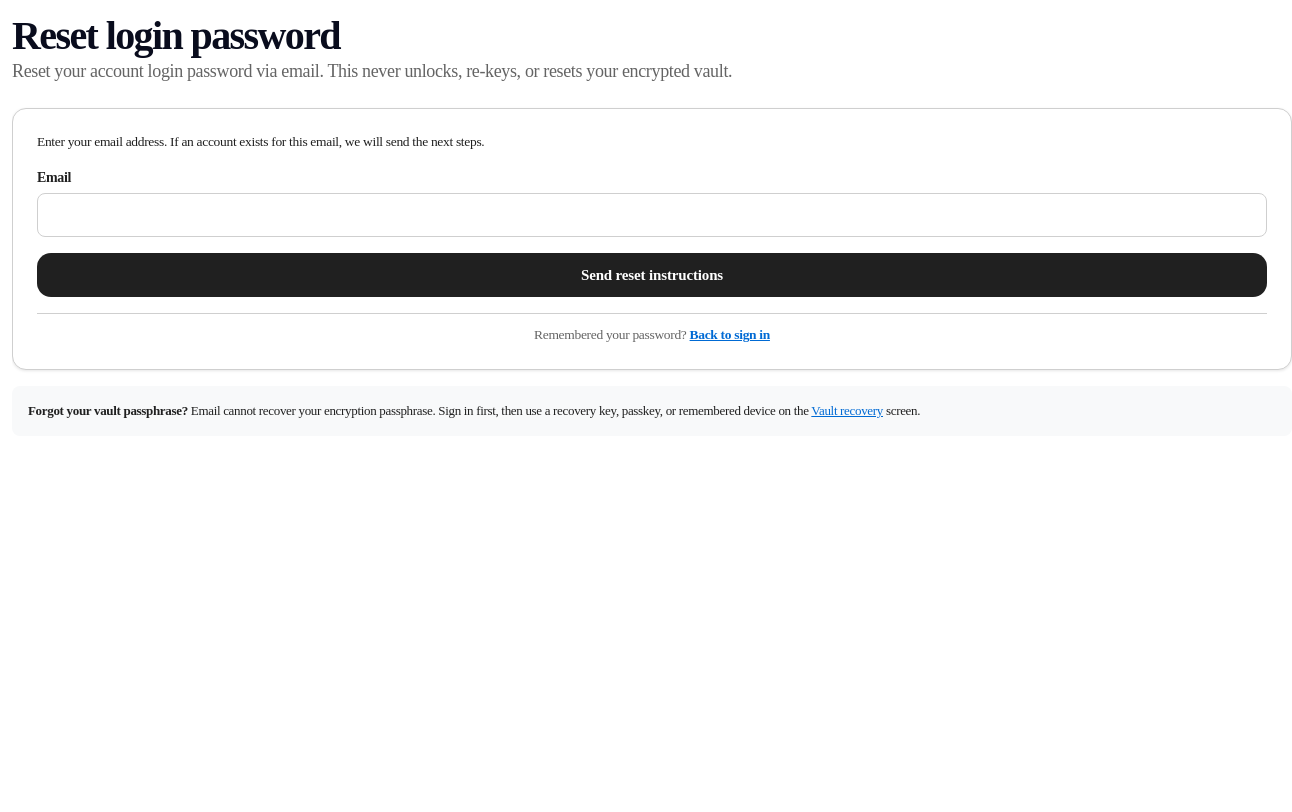
Test: ForgotPasswordForm states and problem-code mapping (ADR 0006 §9.2) › maps captcha_required (403) to localized UI copy without leaking raw problem title/detail
The width and height of the screenshot is (1292, 812).
Type "user@example.com" into the field labelled "Email".
click(652, 215); type("user@example.com")  # box [37,193,1267,237]
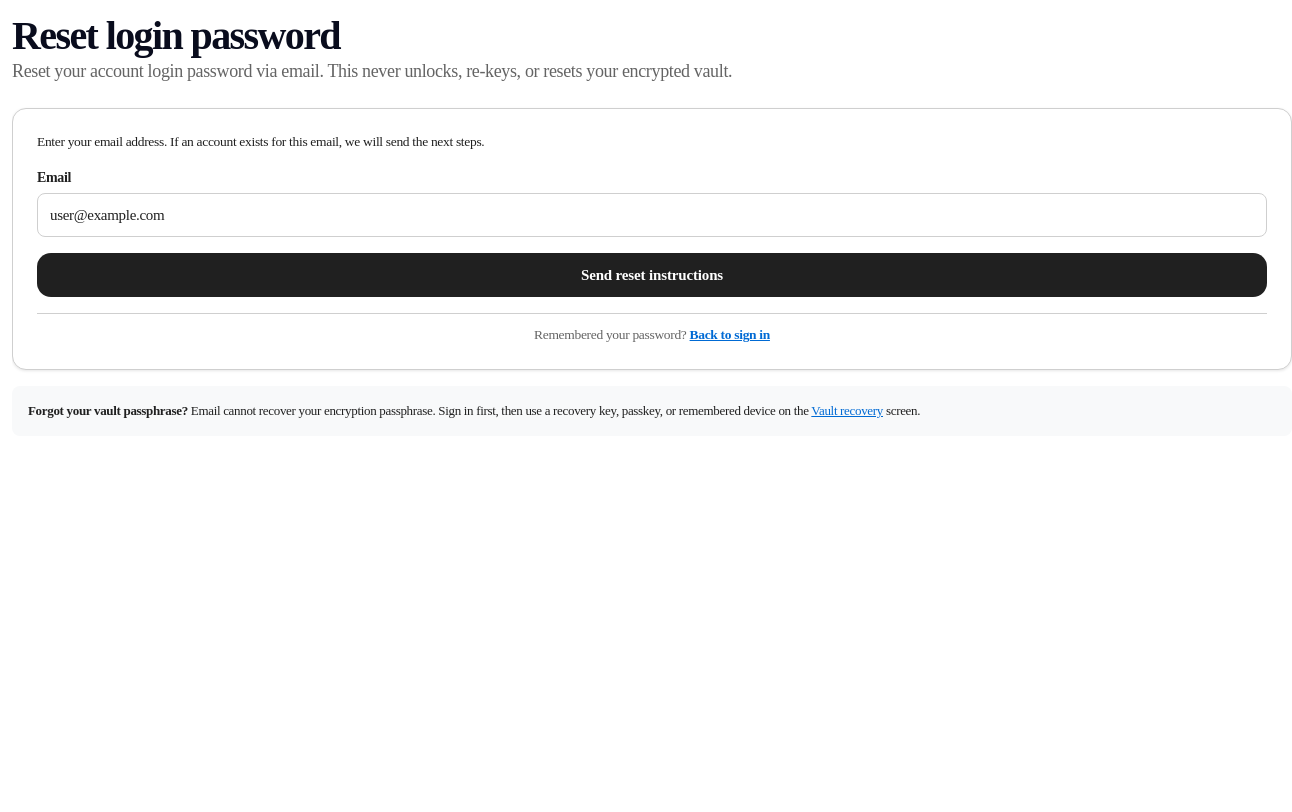
Submit the form labelled "email", box [12,108,1291,370]
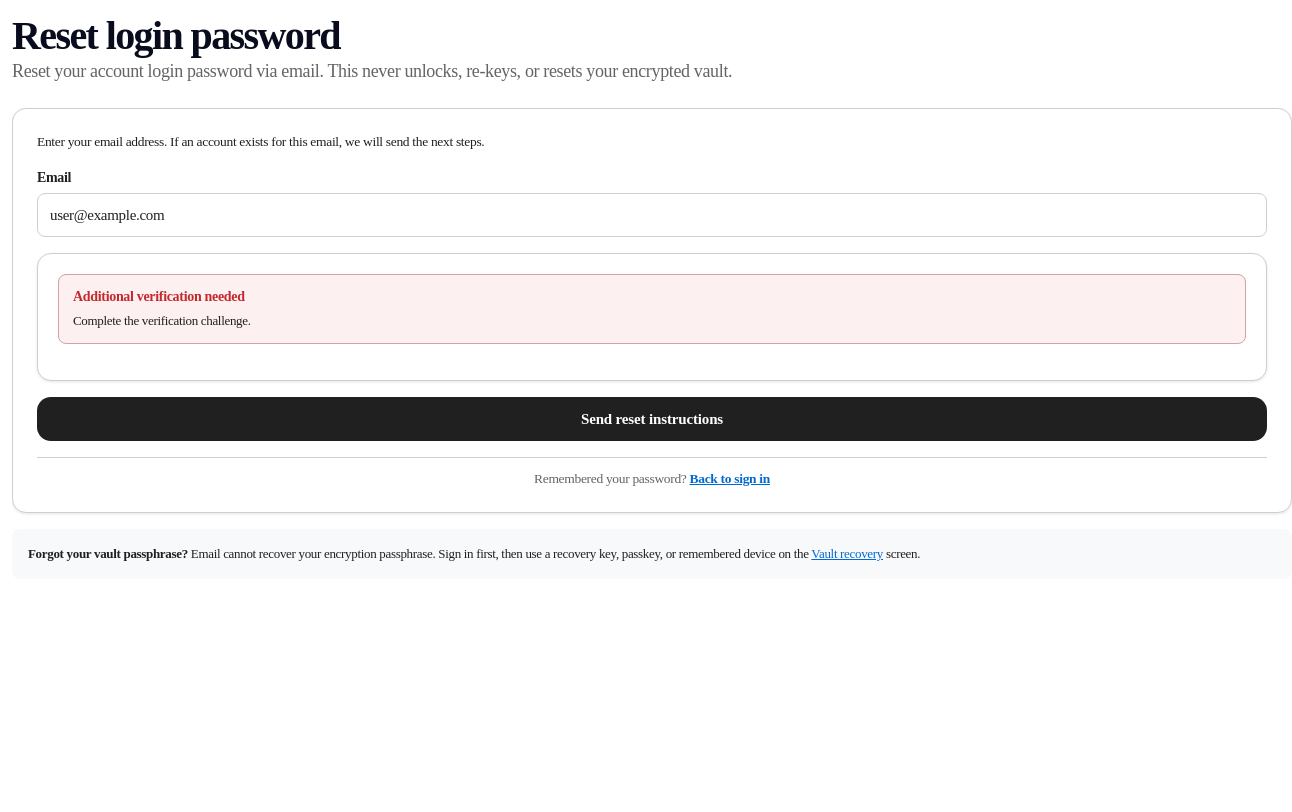
Expected: the text "Complete the verification challenge." is shown, [73,313,251,328]
